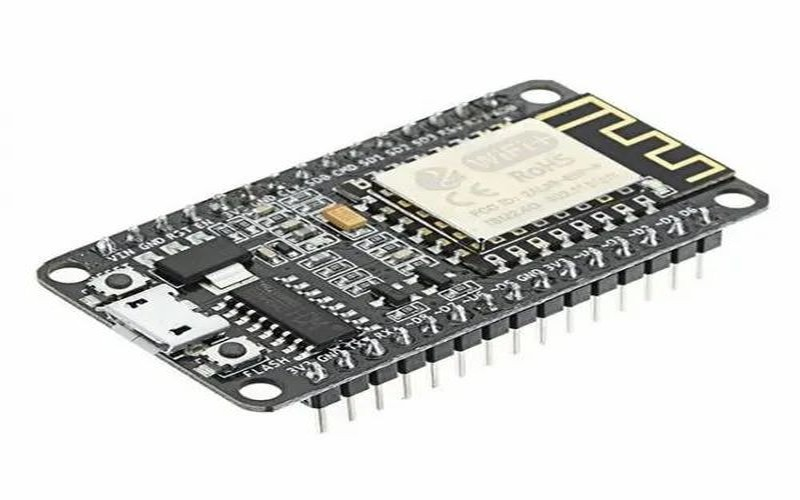IoT Sensor: (28, 41, 778, 442)
